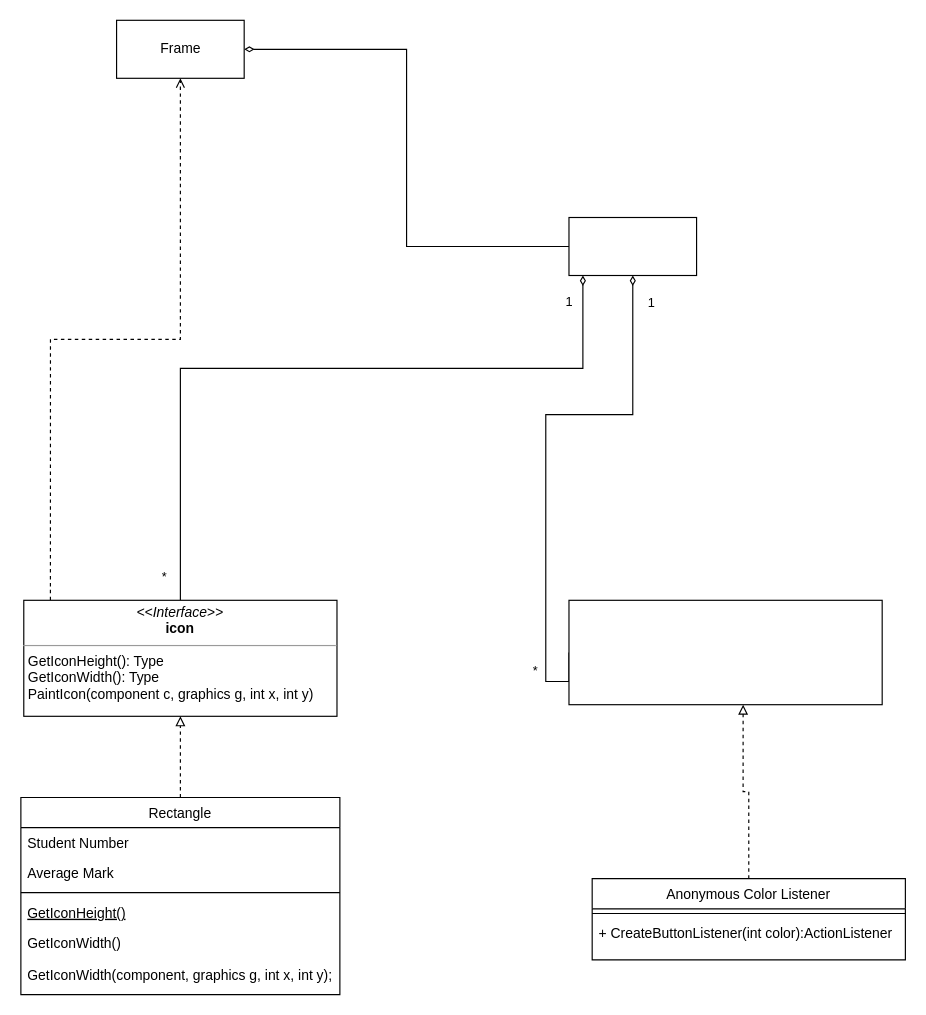
The diagram is 926 pixels wide and 1015 high, and some of its shapes have lost their labels. The shapes that lost their labels are listed below. From the top down, each one's centre as x and y in pixels, then its label:
At point (632, 246): "JLabel".
At point (725, 652): "<<interface>> Action listener AddActionlistener(Actionlistener): void".
